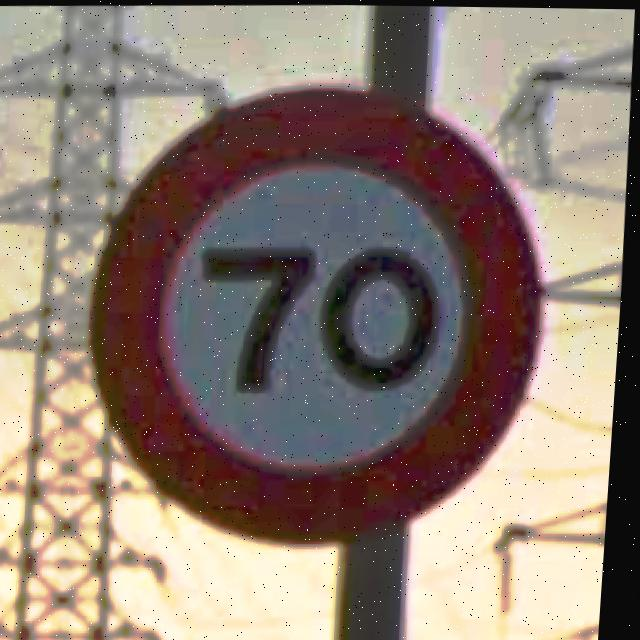max70: (73, 73, 565, 549)
